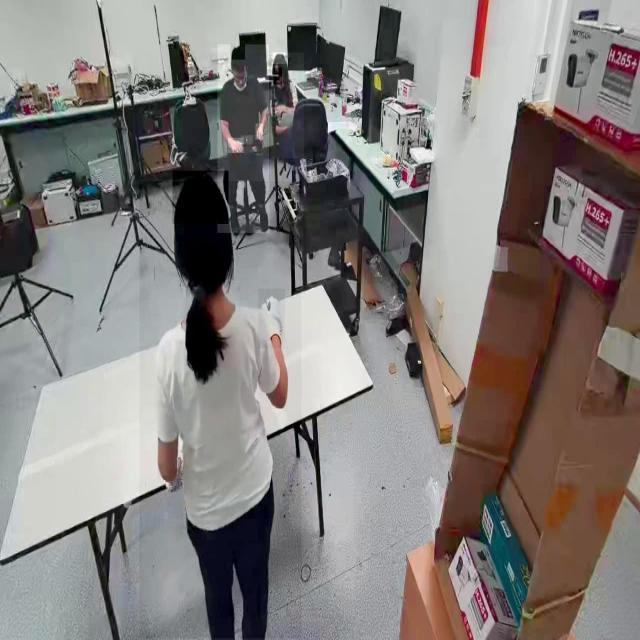face_nomask: (274, 68, 282, 86)
hand_glove: (258, 289, 285, 348)
hand_noglove: (228, 138, 244, 154), (273, 102, 283, 116), (256, 124, 264, 140)
head_nohelmet: (173, 171, 229, 225), (230, 44, 246, 60), (272, 52, 286, 65)
person: (140, 181, 302, 639), (218, 44, 270, 233), (271, 53, 305, 159)
